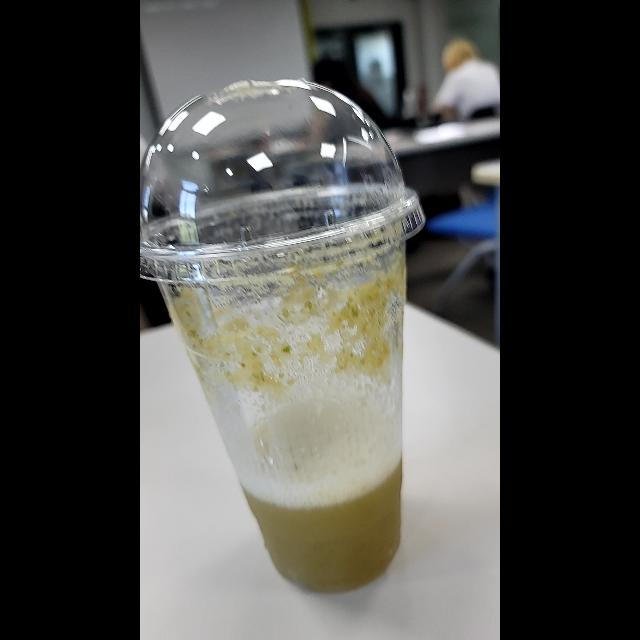plastic_cup: (140, 77, 426, 595)
